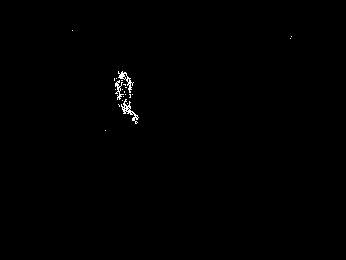person: (115, 71, 139, 129)
